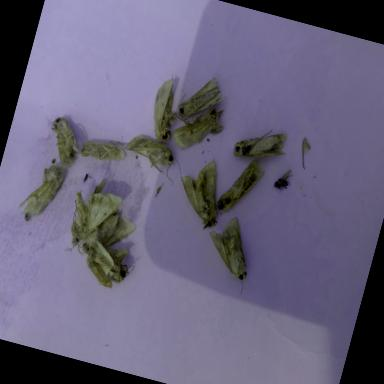abw: (59, 174, 126, 266), (196, 212, 262, 296), (169, 154, 232, 232), (117, 130, 192, 188), (76, 206, 140, 268), (17, 158, 69, 231), (168, 95, 228, 158), (174, 70, 232, 130), (80, 240, 142, 294), (144, 70, 188, 145), (214, 154, 265, 218), (231, 122, 292, 170), (41, 114, 88, 171), (78, 134, 128, 170)
